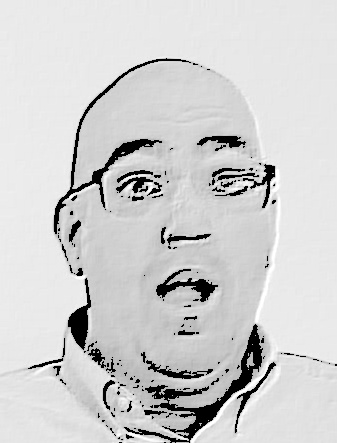nose_M_C: (154, 192, 216, 262)
